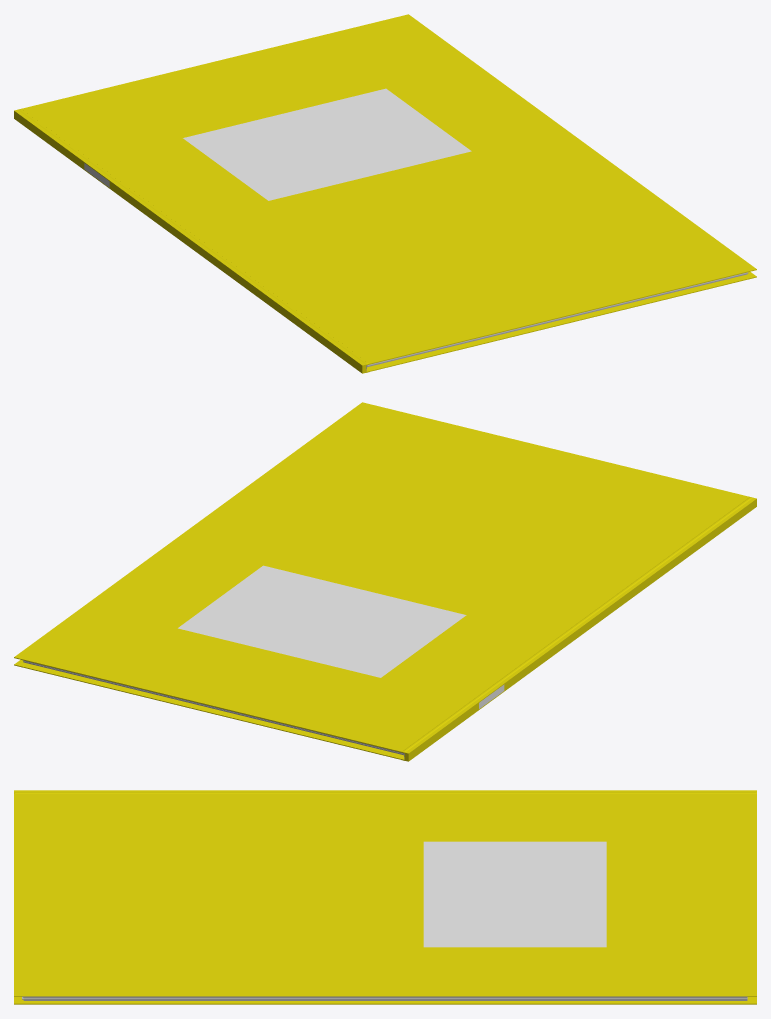
Rendered from Book_2.fbx.
3 renders of one model, top to bottom at view 1: azimuth 30°, elevation 25°; view 2: azimuth 150°, elevation 25°; view 3: azimuth 270°, elevation 25°, orthographic. The views are drawn at different scales.
Parts seen in each view (by area): view 1: Book_2; view 2: Book_2; view 3: Book_2.
Part boxes in pixels (x1=…): Book_2: x1=14, y1=14, x2=756, y2=373; Book_2: x1=14, y1=402, x2=756, y2=761; Book_2: x1=14, y1=790, x2=756, y2=1004.
Bounding box in the file's own units: 101 × 2.12 × 154.
